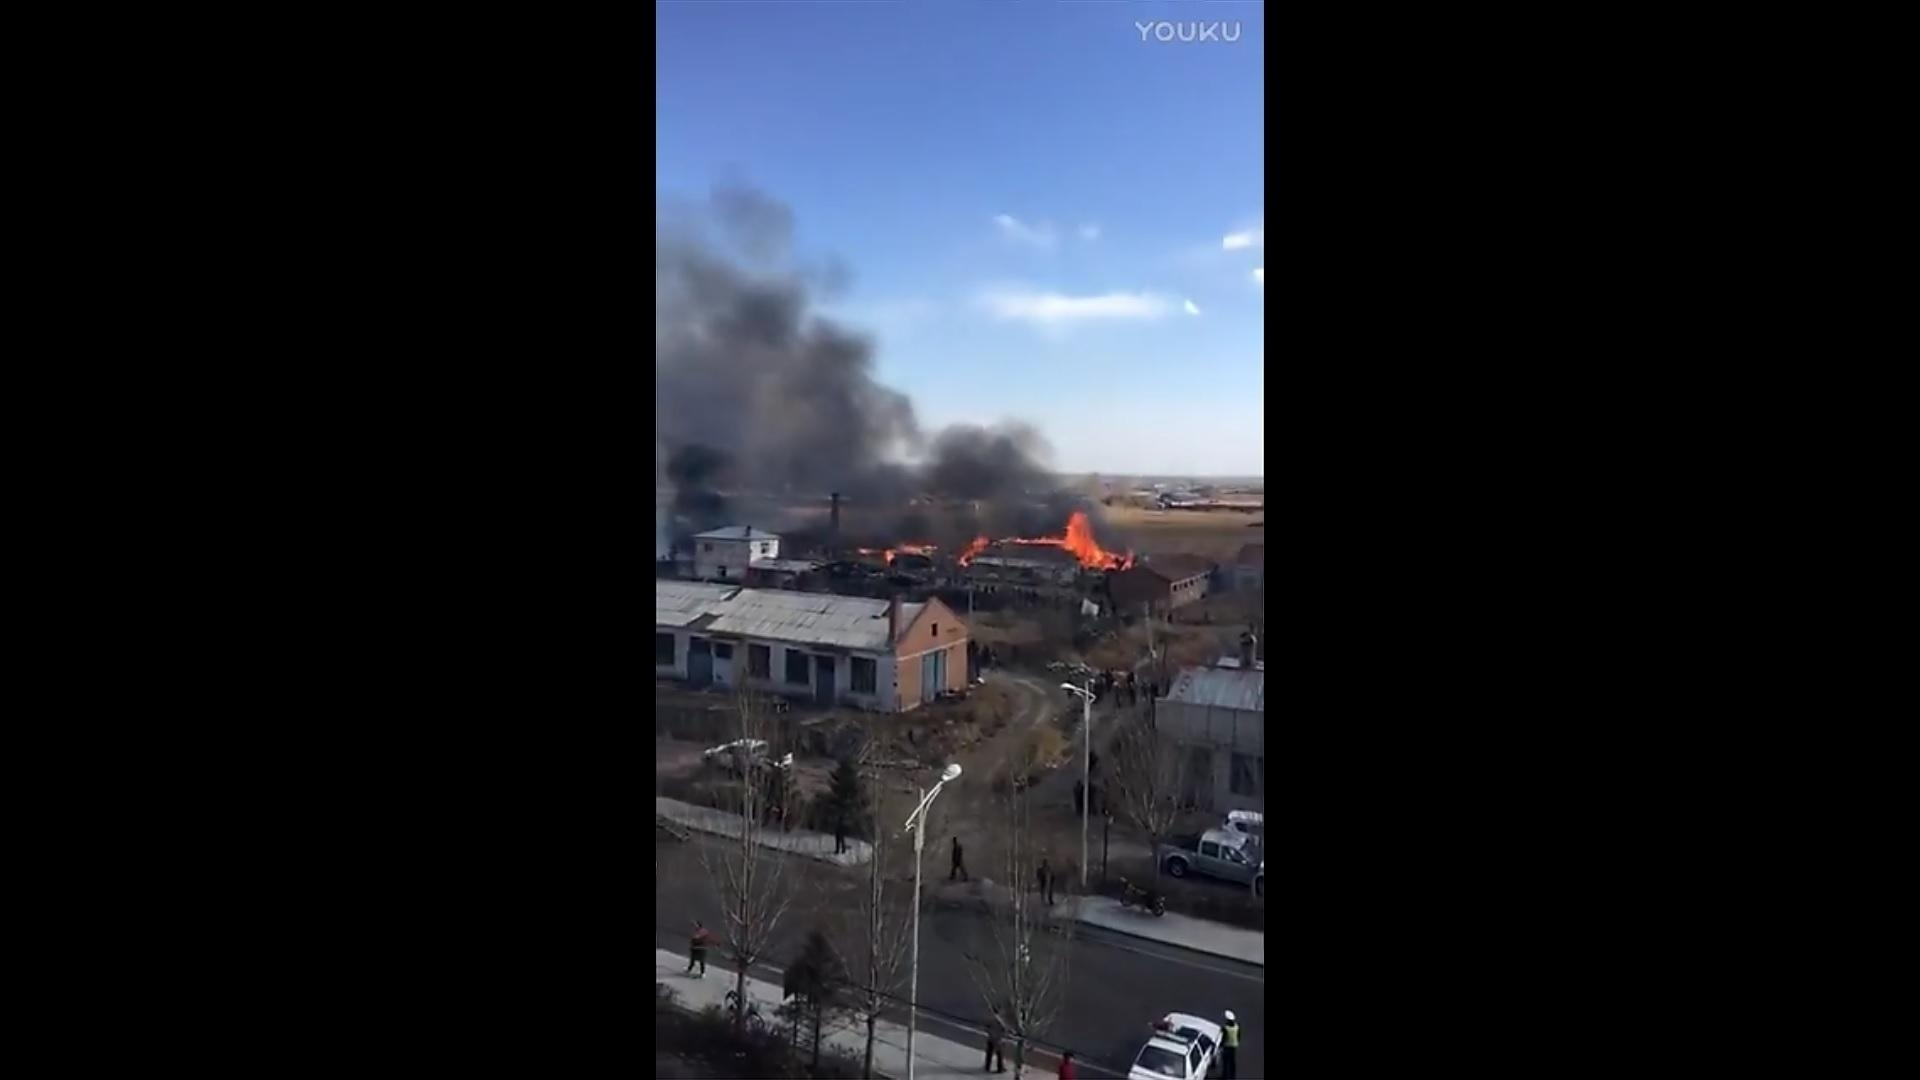fire: (1056, 513, 1124, 568)
